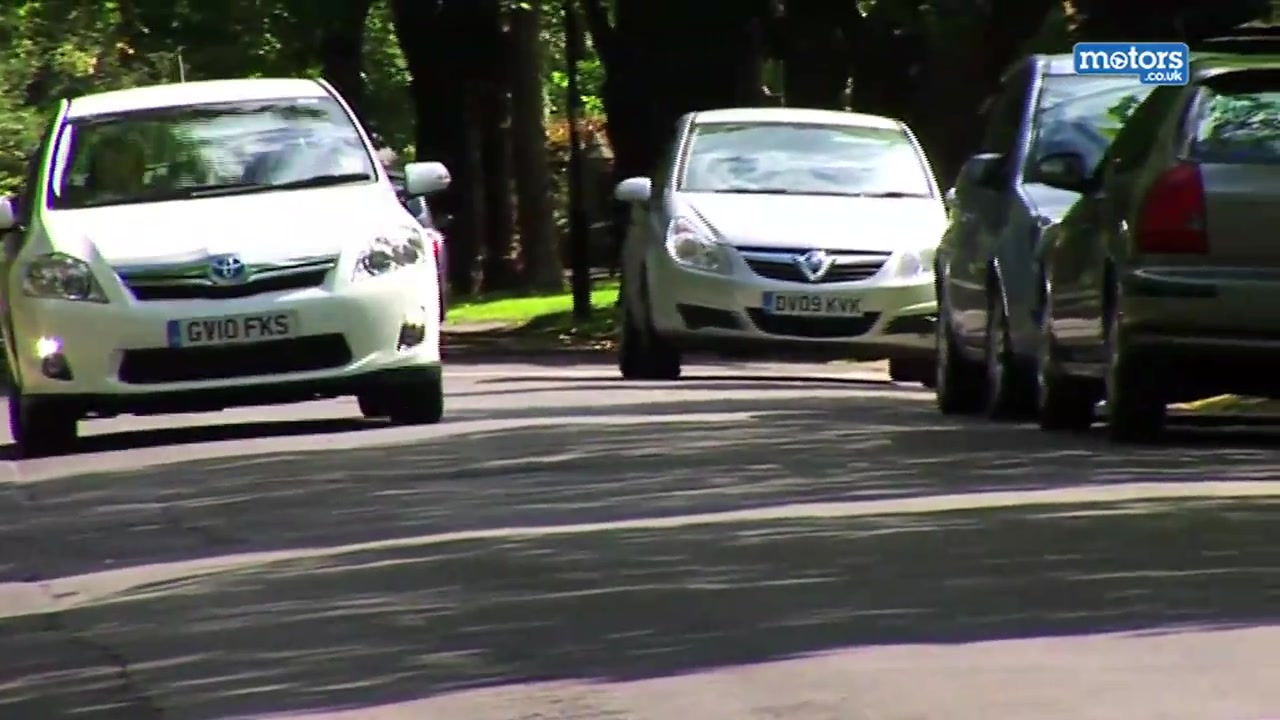car: (3, 72, 453, 453), (935, 43, 1222, 430), (612, 100, 961, 389), (1030, 56, 1280, 429), (384, 156, 452, 340)
